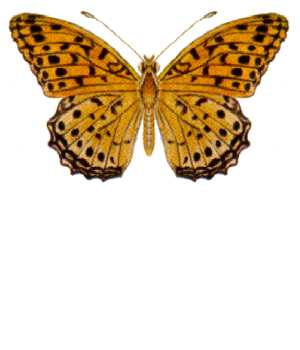Argyreus hyperbius: (5, 5, 292, 183)
butterfly: (7, 7, 294, 185)
